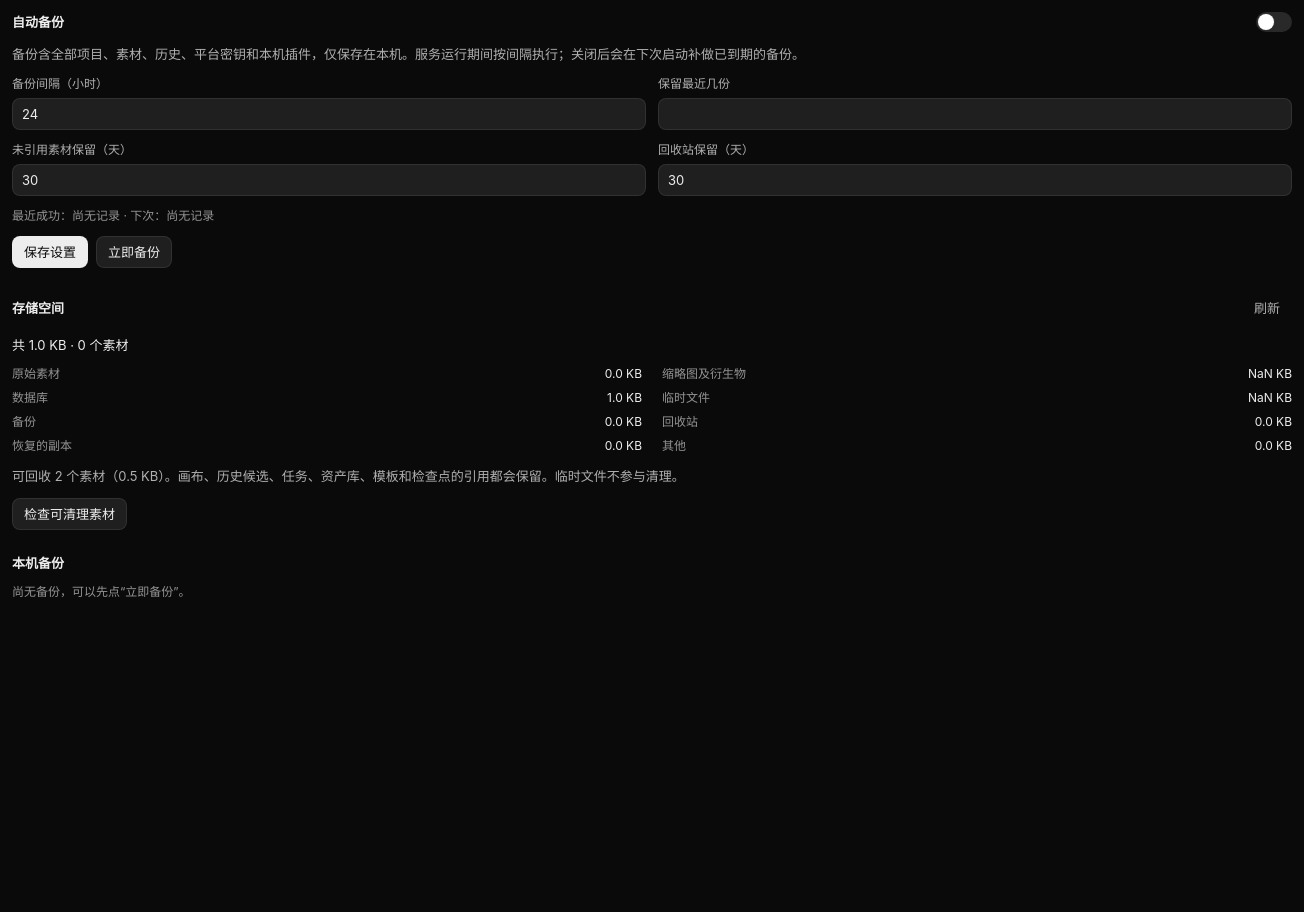
Scenario: 数据维护的操作反馈 › 别的操作失败不清掉已看过的清理预览
This screenshot has width=1304, height=912.
Click the button "检查可清理素材" at coordinates (70, 514), box [12,498,127,530]
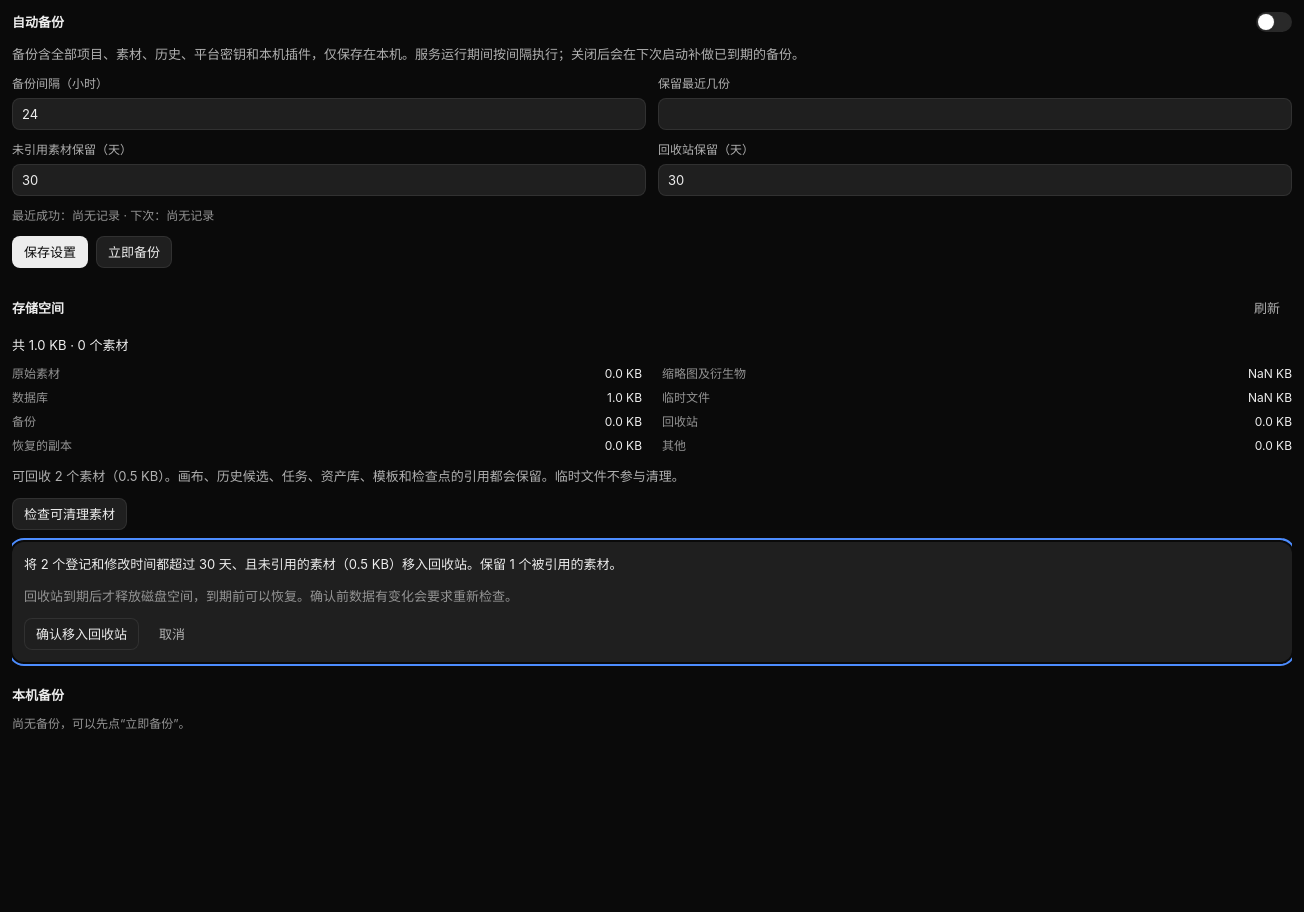
Check: the element named "清理预览" is shown, box [12,542,1292,662]
Click the button "立即备份" at coordinates (134, 252), box [96,236,172,268]
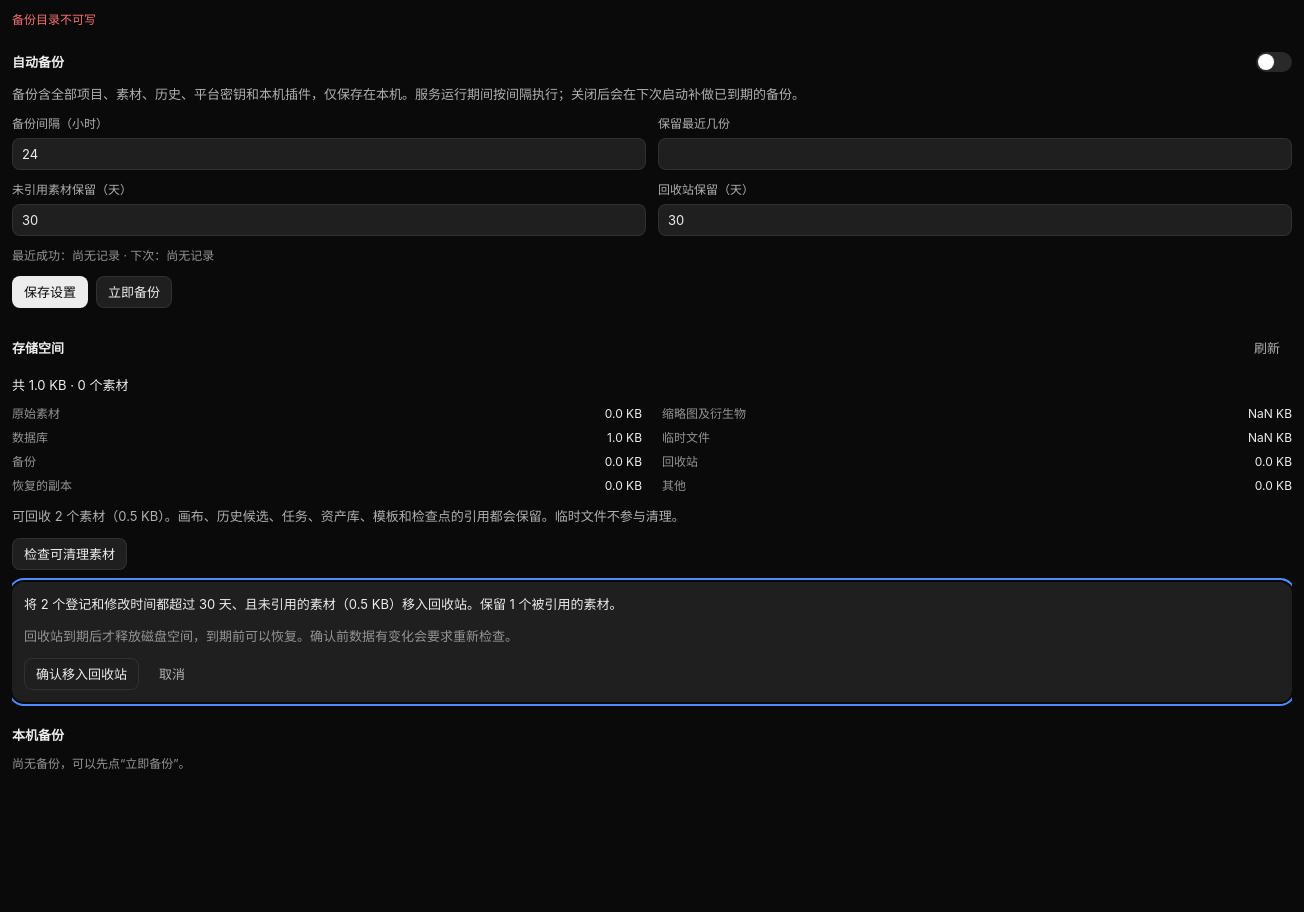
Check: the element named "清理预览" is shown, box [12,582,1292,702]
Check: the message reads "备份目录不可写", box [12,12,96,27]
